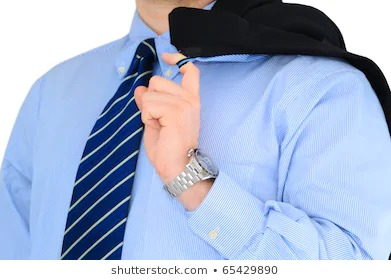F_shirt: (1, 8, 391, 259)
F_tie: (57, 38, 157, 261)
